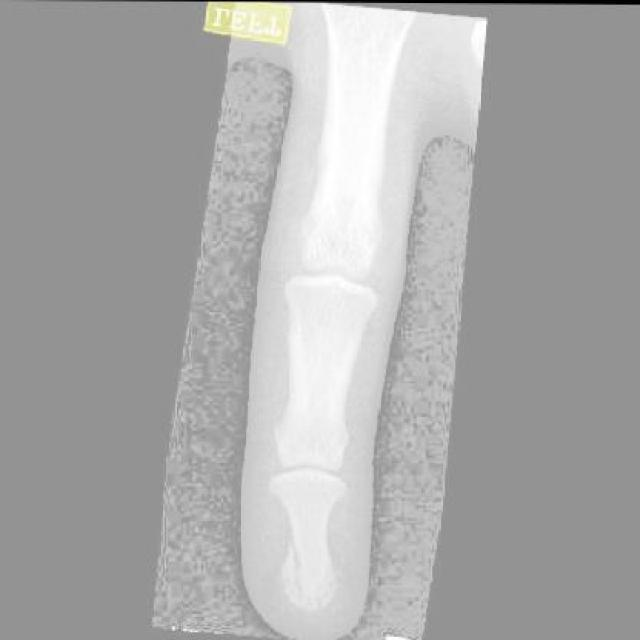Fracture: (274, 546, 339, 616)
